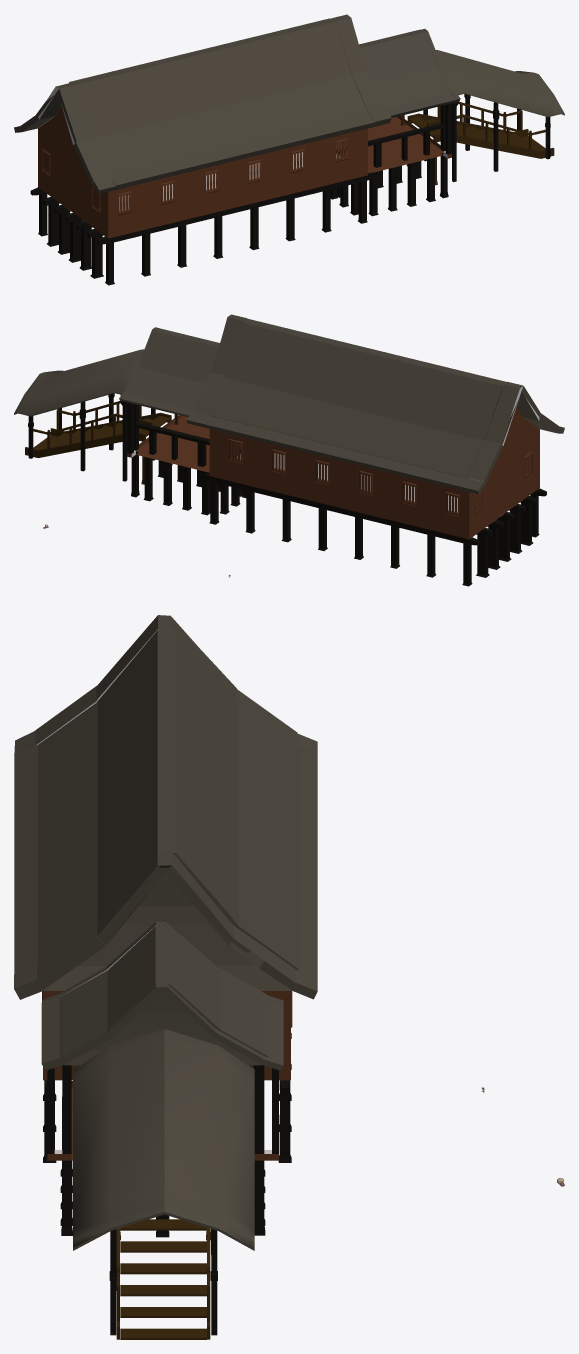
The model's file is Kraton.fbx.
3 renders of one model, top to bottom at view 1: azimuth 30°, elevation 25°; view 2: azimuth 150°, elevation 25°; view 3: azimuth 270°, elevation 25°, orthographic. The views are drawn at different scales.
Parts seen in each view (by area): view 1: rumah; view 2: rumah; view 3: rumah.
Boxes of the visible parts, x1,y1,x2,y2 form: rumah: [14, 14, 564, 285]; rumah: [14, 314, 564, 586]; rumah: [14, 615, 317, 1339].
Bounding box in the file's own units: 3659 × 1279 × 2051.
